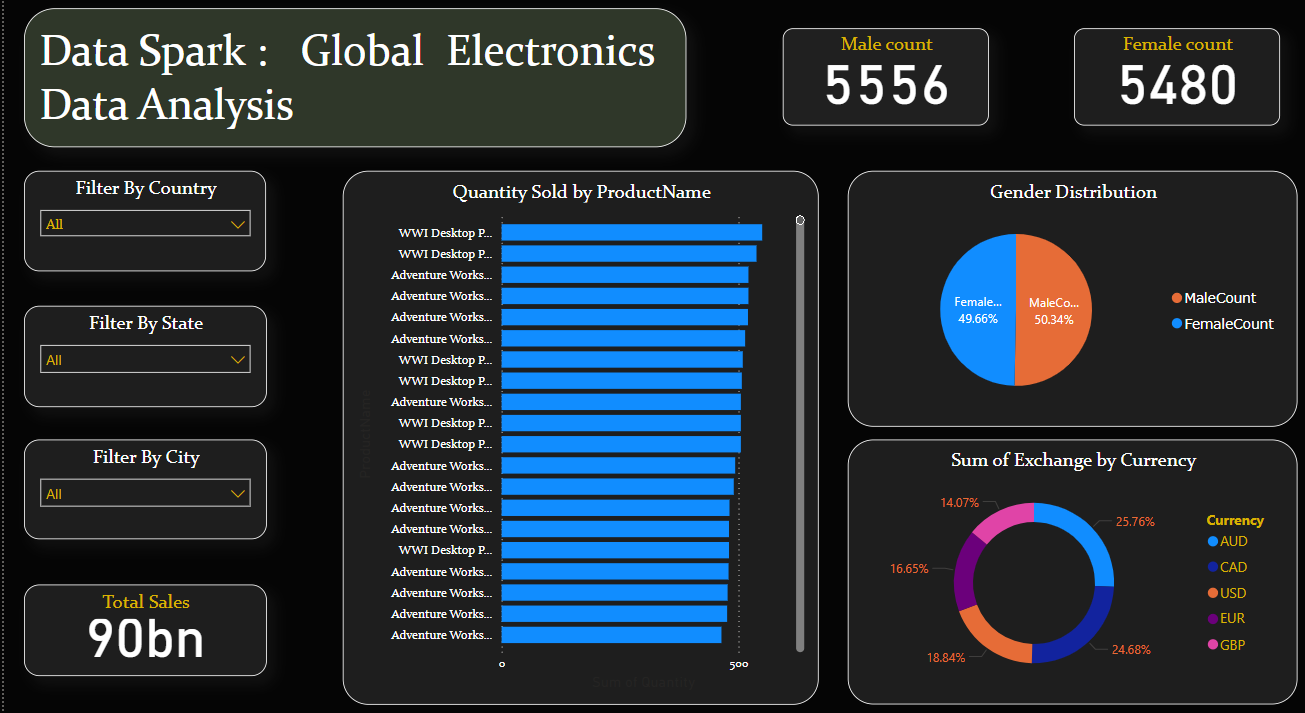

Layout of this report page (visuals, bound fields, positions):
{"tool":"powerbi","page":{"name":"visualization","canvas":[1280,720],"ordinal":0},"visuals":[{"type":"card","title":"Female count","fields":{"Values":["eda electronic cleaned_customers.FemaleCount"]},"box":[1046.7,35.5,201.8,95.4],"z":0},{"type":"card","title":"Male count","fields":{"Values":["eda electronic cleaned_customers.MaleCount"]},"box":[761.8,35.5,201.8,95.4],"z":1000},{"type":"slicer","title":"Filter By Country","fields":{"Values":["eda electronic cleaned_customers.Country"]},"box":[20,174.3,237.1,98.6],"z":2000},{"type":"slicer","title":"Filter By State","fields":{"Values":["eda electronic cleaned_customers.State"]},"box":[19.6,306.9,237.2,99],"z":3000},{"type":"slicer","title":"Filter By City","fields":{"Values":["eda electronic cleaned_customers.City"]},"box":[19.6,437.8,237.2,97.8],"z":4000},{"type":"card","title":"Total Sales","fields":{"Values":["eda electronic cleaned_sales.tot_sales"]},"box":[19.6,579.6,237.2,89.3],"z":5000},{"type":"textbox","box":[19.6,15.9,648.1,135.7],"z":6000},{"type":"barChart","title":" Quantity Sold by ProductName","fields":{"Category":["eda electronic cleaned_products.ProductName"],"Y":["Sum(eda electronic cleaned_sales.Quantity)"]},"box":[331.4,174.9,465.9,522.1],"z":7000},{"type":"pieChart","title":"Gender Distribution","fields":{"Y":["_customers.MaleCount","_customers.FemaleCount"]},"box":[825.4,174.9,440.2,250.7],"z":8000},{"type":"donutChart","fields":{"Category":["_exchange_rates.Currency"],"Y":["Sum(_exchange_rates.Exchange)"]},"box":[825.4,437.8,440.2,259.2],"z":9000}]}

Visuals, with their boxes in screenshot pixels (x1, y1, x2, y2), scaled from the page's 1280x720 canvas onto the 1305x713 screenshot:
"Female count" card: {"left": 1067, "top": 35, "right": 1273, "bottom": 130}
"Male count" card: {"left": 777, "top": 35, "right": 982, "bottom": 130}
"Filter By Country" slicer: {"left": 20, "top": 173, "right": 262, "bottom": 270}
"Filter By State" slicer: {"left": 20, "top": 304, "right": 262, "bottom": 402}
"Filter By City" slicer: {"left": 20, "top": 434, "right": 262, "bottom": 530}
"Total Sales" card: {"left": 20, "top": 574, "right": 262, "bottom": 662}
textbox: {"left": 20, "top": 16, "right": 681, "bottom": 150}
" Quantity Sold by ProductName" barChart: {"left": 338, "top": 173, "right": 813, "bottom": 690}
"Gender Distribution" pieChart: {"left": 842, "top": 173, "right": 1290, "bottom": 421}
donutChart - _exchange_rates.Currency x Sum(_exchange_rates.Exchange): {"left": 842, "top": 434, "right": 1290, "bottom": 690}
